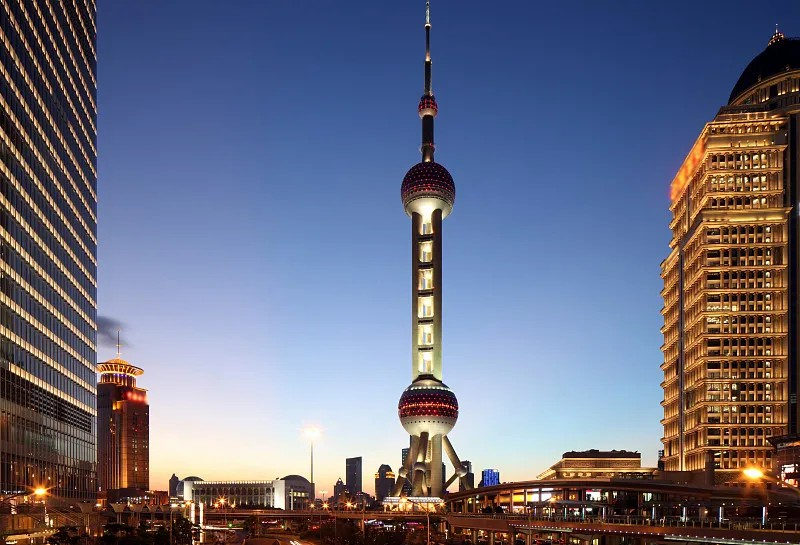Oriental: (391, 1, 472, 495)
